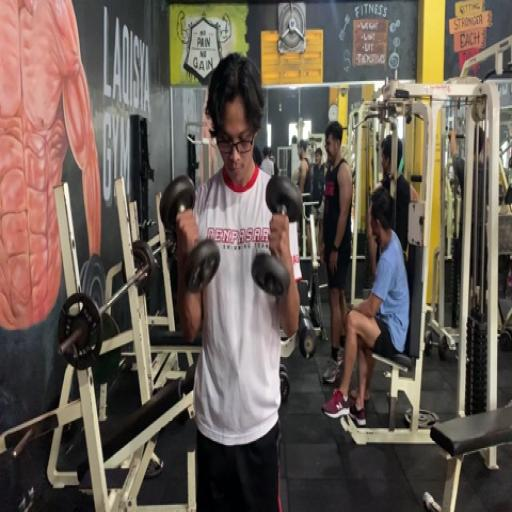exercise: (173, 51, 303, 511), (320, 186, 413, 430), (317, 119, 356, 387)
